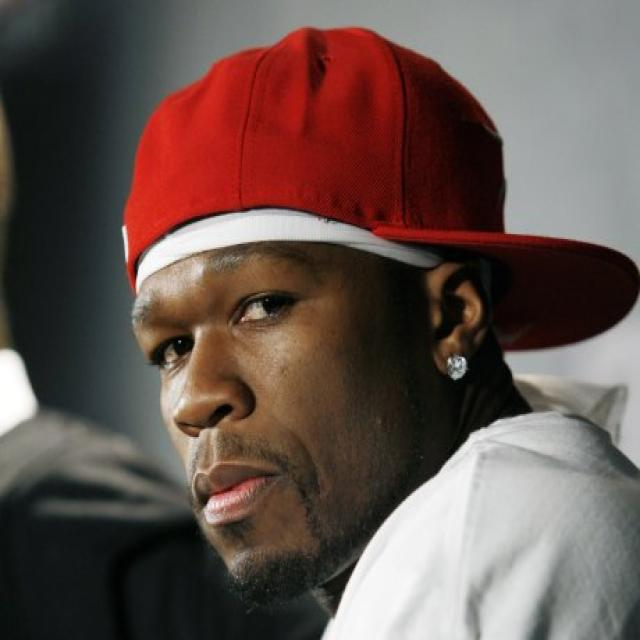cap: (121, 25, 640, 599)
